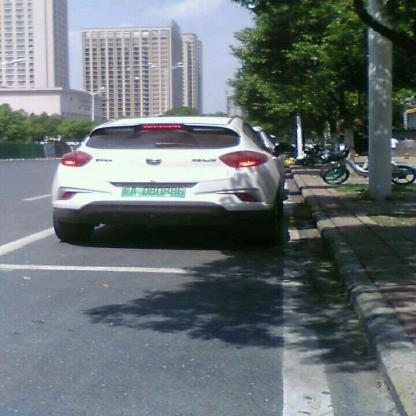lp: (121, 183, 186, 197)
